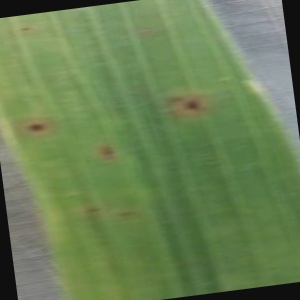Bacterial_Leaf_Blight: (19, 116, 54, 138), (92, 140, 122, 165), (176, 95, 207, 115), (115, 206, 142, 222), (162, 91, 186, 107), (82, 204, 105, 217), (15, 23, 36, 35)
